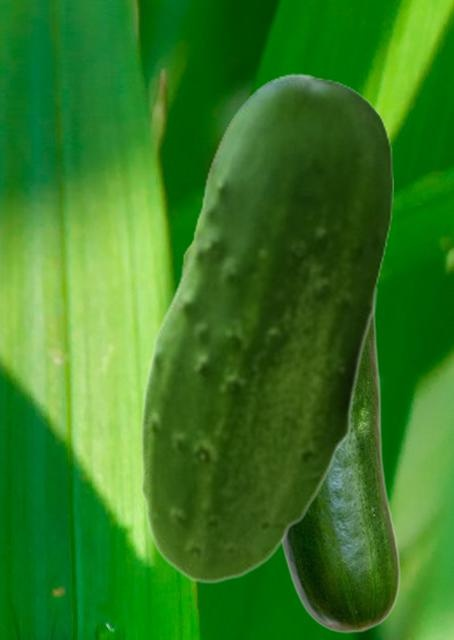cucumber: (140, 73, 392, 583), (280, 315, 399, 632)
